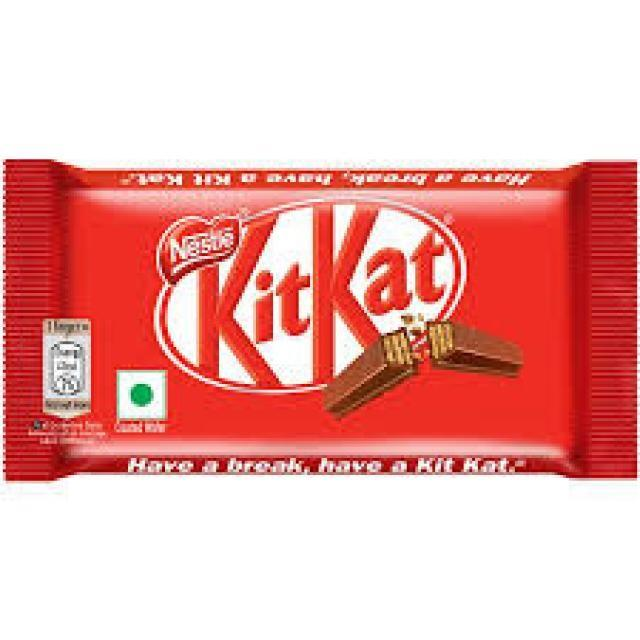kitkat_chocolate: (40, 167, 637, 478)
